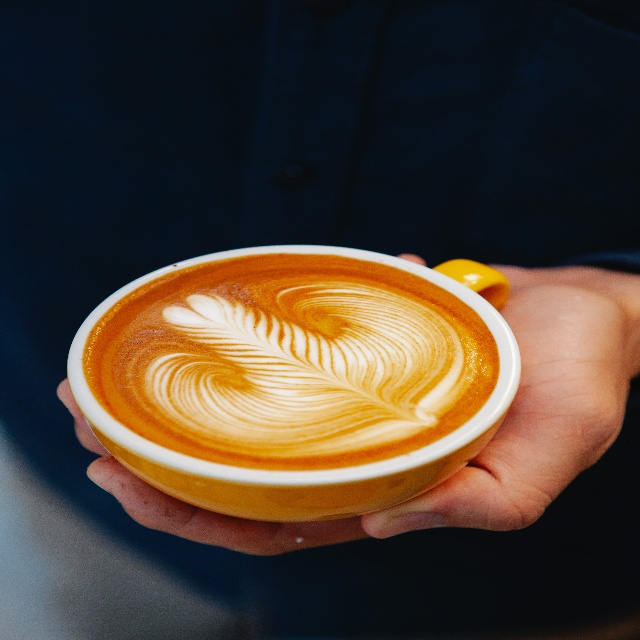Sin_guantes: (56, 262, 625, 540)
